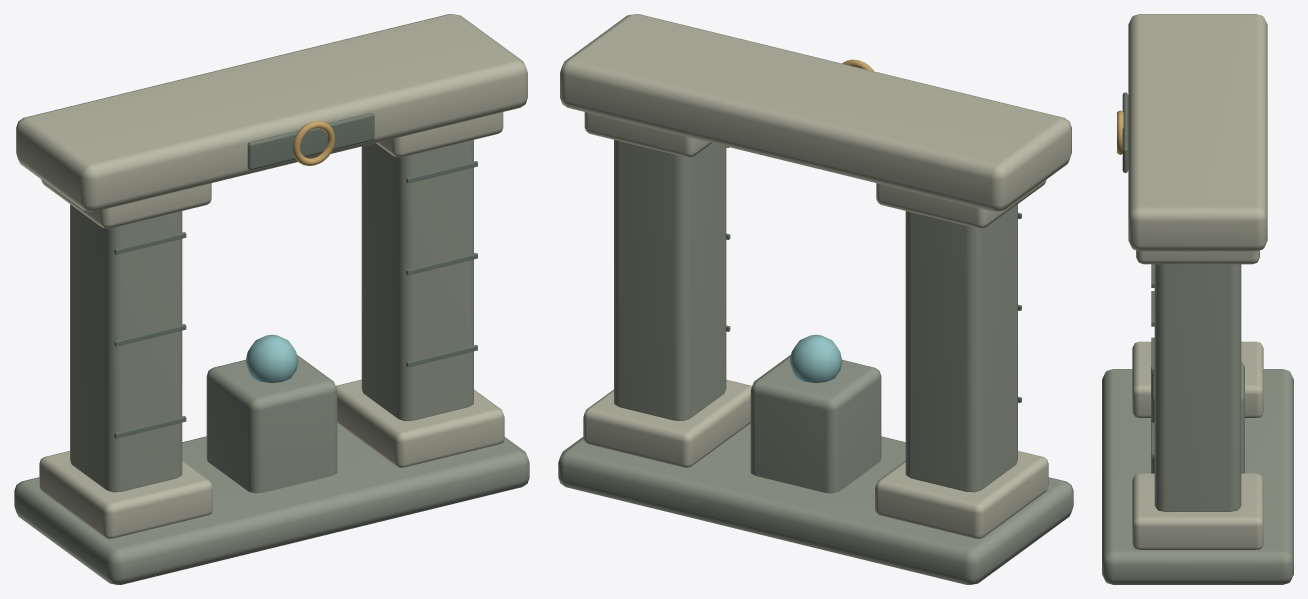
File: shrine.glb
The picture shows the model from 3 angles, left to right: view 1: azimuth 30°, elevation 25°; view 2: azimuth 150°, elevation 25°; view 3: azimuth 270°, elevation 25°; orthographic projection. The views are drawn at different scales.
Parts seen in each view (by area): view 1: shrine_stone, shrine_stone_light, shrine_stone_dark, shrine_crystal, shrine_brass; view 2: shrine_stone, shrine_stone_light, shrine_crystal; view 3: shrine_stone_light, shrine_stone, shrine_stone_dark, shrine_brass.
Part boxes in pixels (x1,y1,x2,y2): shrine_stone: [14, 140, 529, 584]; shrine_stone_light: [16, 14, 527, 538]; shrine_stone_dark: [114, 113, 477, 438]; shrine_crystal: [245, 334, 298, 382]; shrine_brass: [292, 121, 334, 165]; shrine_stone: [558, 140, 1073, 584]; shrine_stone_light: [560, 14, 1071, 538]; shrine_crystal: [789, 334, 842, 382]; shrine_stone_light: [1128, 14, 1267, 549]; shrine_stone: [1102, 264, 1293, 584]; shrine_stone_dark: [1122, 92, 1154, 458]; shrine_brass: [1117, 110, 1123, 154].
Size of the model in its own units: 2.54 by 2.25 by 1.02.
